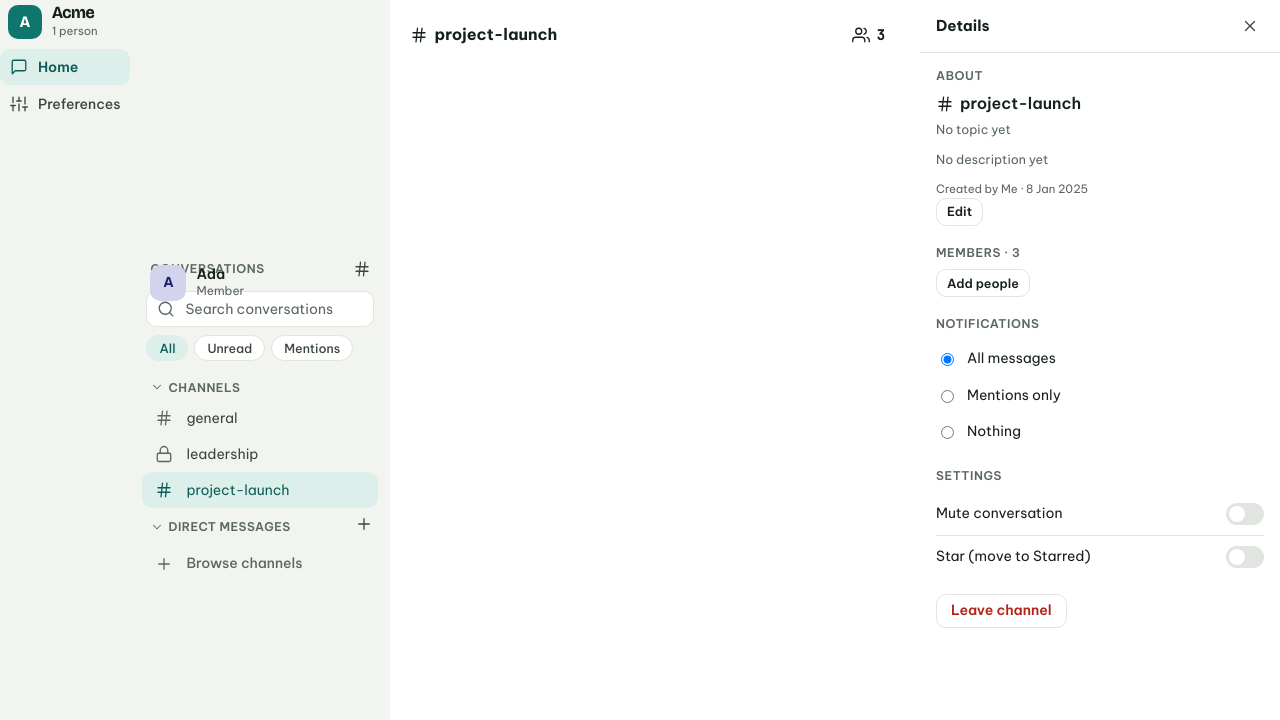
after a leave (R25) › a public leave ends at #general with the panel closed and the history not grown; Undo does not move the router
The width and height of the screenshot is (1280, 720).
Later steps or results of the test are not shown.
Check: the element with id "conversation-details" is shown, box [936,67,1264,628]
Click the button "Leave channel" at (1001, 611), box [936,594,1067,628]
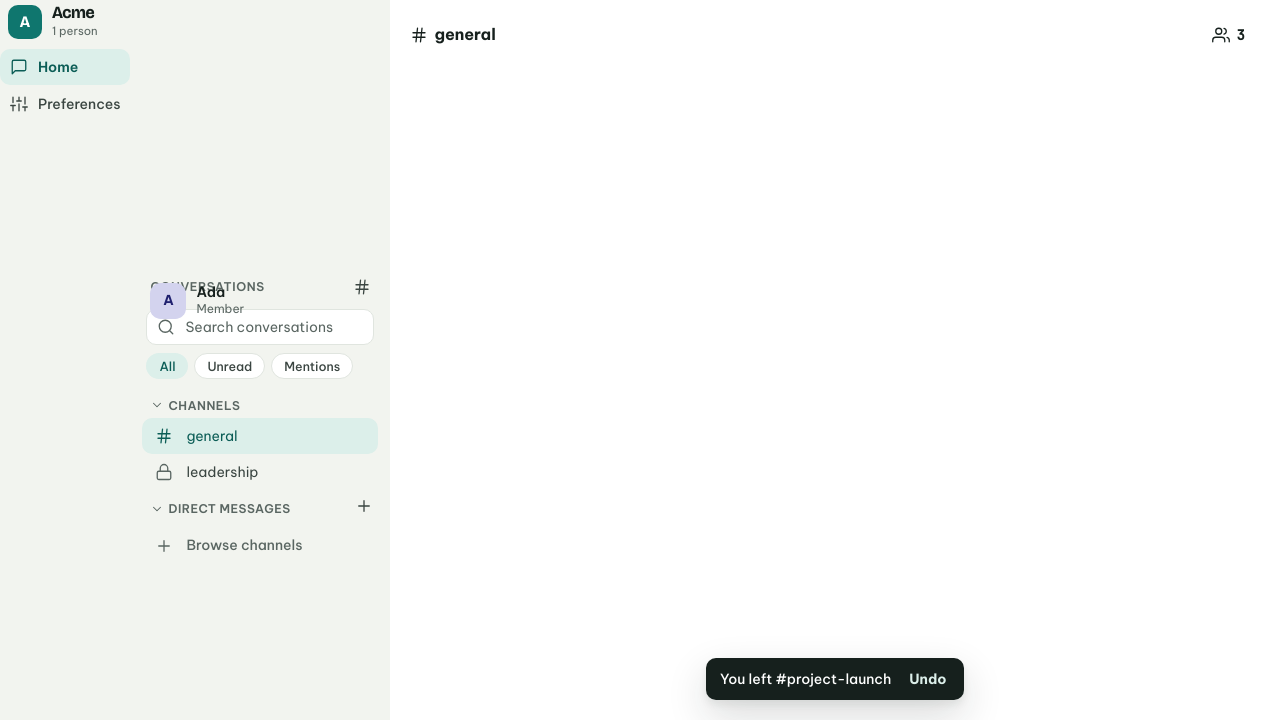
Check: the button with id "conversation-details" is gone
